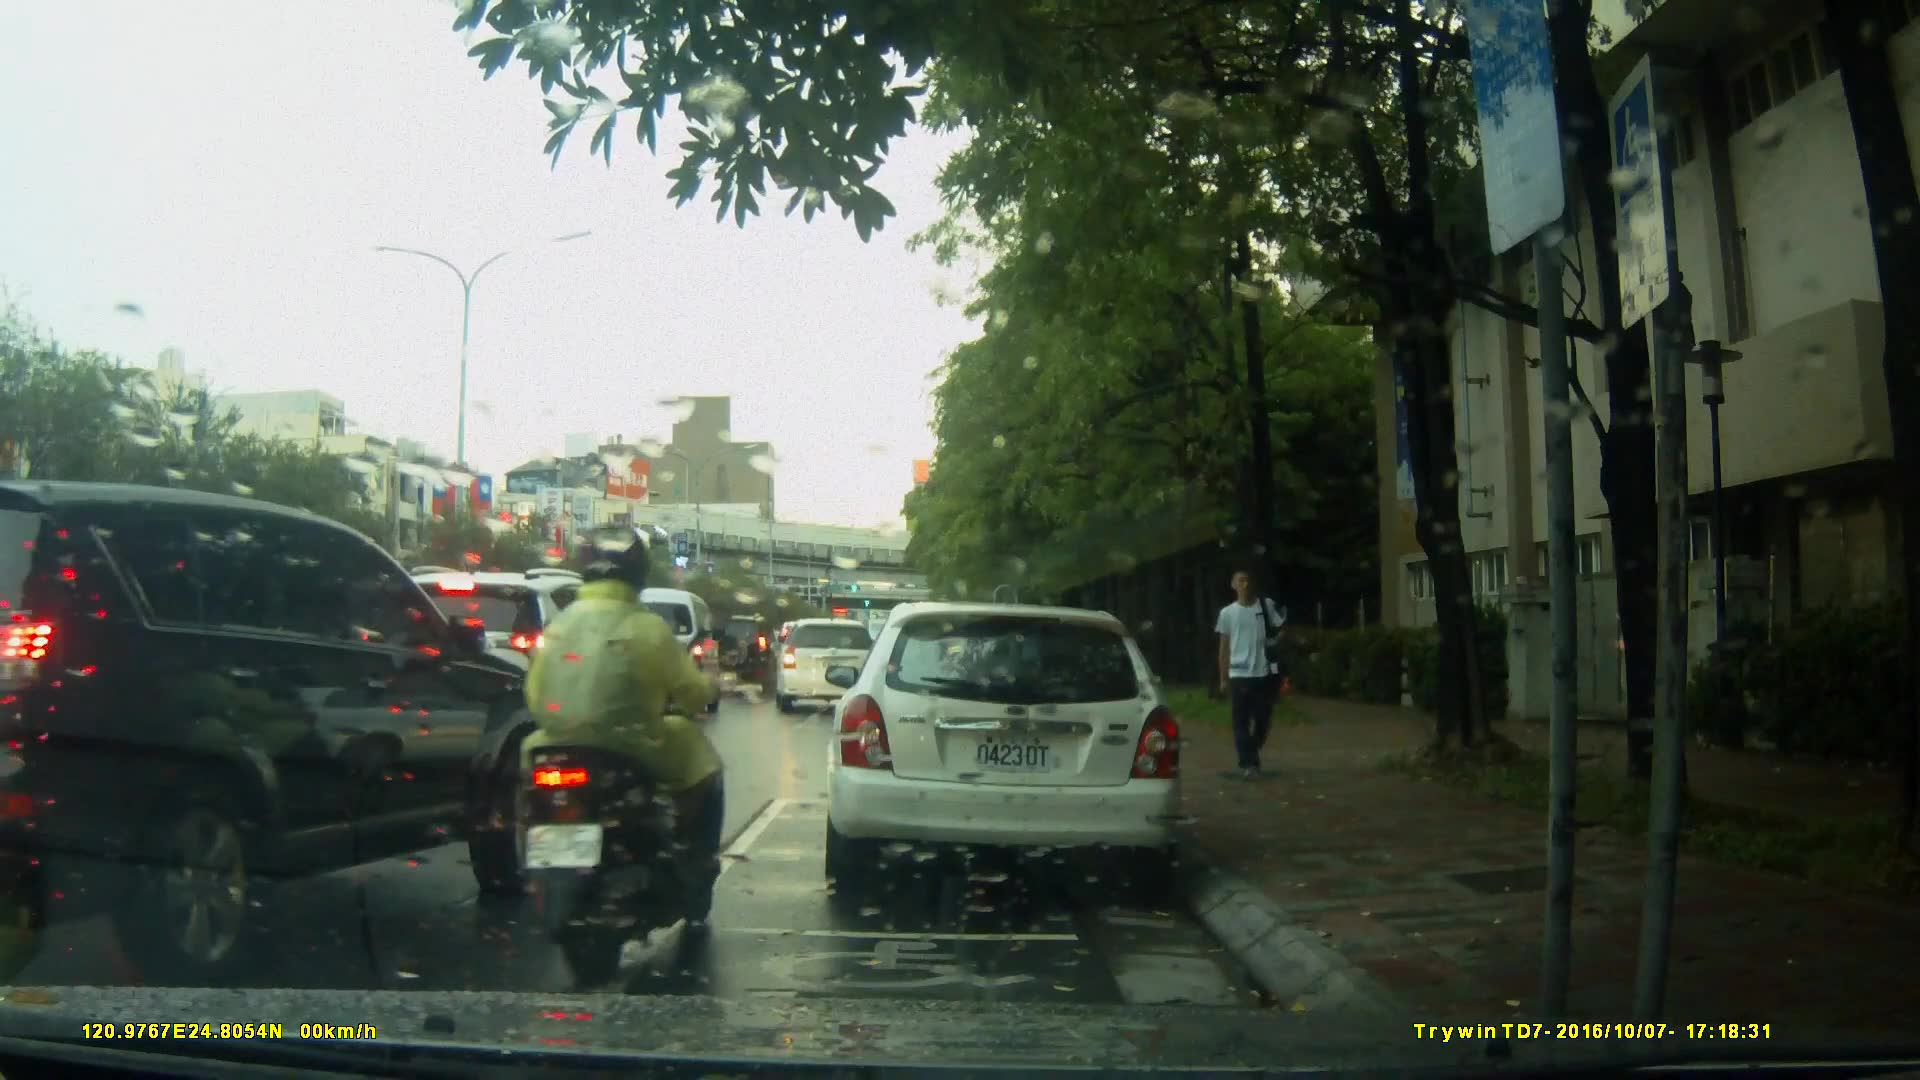pedestrian: (1210, 562, 1298, 796)
rider: (492, 525, 719, 963)
vehicle: (1, 473, 543, 985), (820, 602, 1188, 898), (350, 564, 663, 788), (604, 586, 726, 720), (771, 618, 884, 713), (690, 613, 779, 700)
